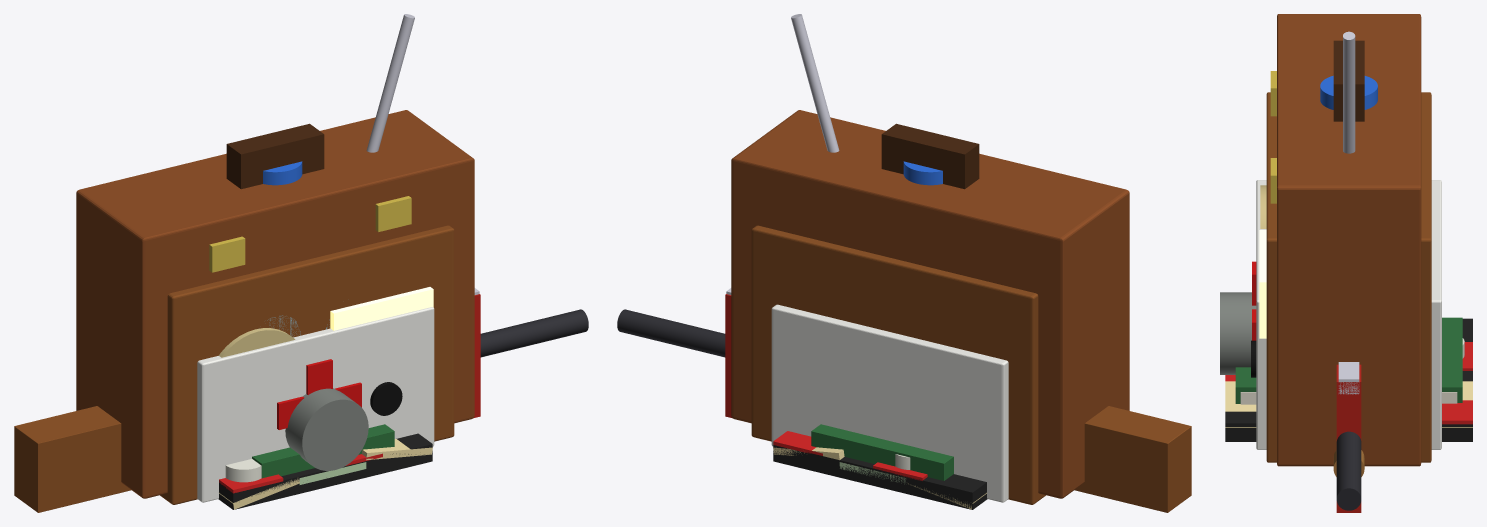
The model's file is itens.glb.
3 renders of one model, left to right at view 1: azimuth 30°, elevation 25°; view 2: azimuth 150°, elevation 25°; view 3: azimuth 270°, elevation 25°, orthographic. The views are drawn at different scales.
Parts seen in each view (by area): view 1: mala, caixa, caixa.001, coronha, filtro, alca.001, tab, cano, dial, capa, antena, alto (+9 smaller); view 2: mala, caixa, caixa.001, coronha, tab, alca.001, capa, cano, antena, lamina, tampa, q33; view 3: mala, caixa, caixa.001, filtro, capa, cano, tab, alca.001, lamina, antena, dial, tampa (+7 smaller).
Boxes of the visible parts, x1=… form: mala: x1=76, y1=110, x2=474, y2=498; caixa: x1=160, y1=225, x2=454, y2=504; caixa.001: x1=197, y1=307, x2=434, y2=502; coronha: x1=14, y1=406, x2=131, y2=512; filtro: x1=285, y1=388, x2=368, y2=470; alca.001: x1=226, y1=123, x2=324, y2=189; tab: x1=218, y1=433, x2=432, y2=509; cano: x1=480, y1=309, x2=588, y2=357; dial: x1=330, y1=287, x2=433, y2=330; capa: x1=252, y1=424, x2=394, y2=478; antena: x1=366, y1=14, x2=414, y2=152; alto: x1=219, y1=328, x2=295, y2=357; mala: x1=731, y1=110, x2=1129, y2=498; caixa: x1=751, y1=225, x2=1045, y2=504; caixa.001: x1=771, y1=304, x2=1008, y2=502; coronha: x1=1074, y1=406, x2=1191, y2=512; tab: x1=773, y1=445, x2=987, y2=509; alca.001: x1=881, y1=123, x2=979, y2=189; capa: x1=811, y1=424, x2=953, y2=480; cano: x1=617, y1=309, x2=725, y2=357; antena: x1=791, y1=14, x2=839, y2=152; lamina: x1=725, y1=294, x2=732, y2=418; tampa: x1=903, y1=161, x2=942, y2=185; q33: x1=773, y1=431, x2=822, y2=455; mala: x1=1277, y1=14, x2=1421, y2=466; caixa: x1=1266, y1=92, x2=1431, y2=462; caixa.001: x1=1256, y1=180, x2=1441, y2=449; filtro: x1=1220, y1=292, x2=1256, y2=374; capa: x1=1235, y1=317, x2=1462, y2=403; cano: x1=1336, y1=431, x2=1361, y2=510; tab: x1=1225, y1=318, x2=1472, y2=441; alca.001: x1=1333, y1=40, x2=1364, y2=121; lamina: x1=1336, y1=364, x2=1361, y2=512; antena: x1=1343, y1=31, x2=1355, y2=153; dial: x1=1259, y1=230, x2=1266, y2=338; tampa: x1=1320, y1=75, x2=1377, y2=109.
Bounding box in the file's own units: 1.07 × 0.7608 × 0.392.
